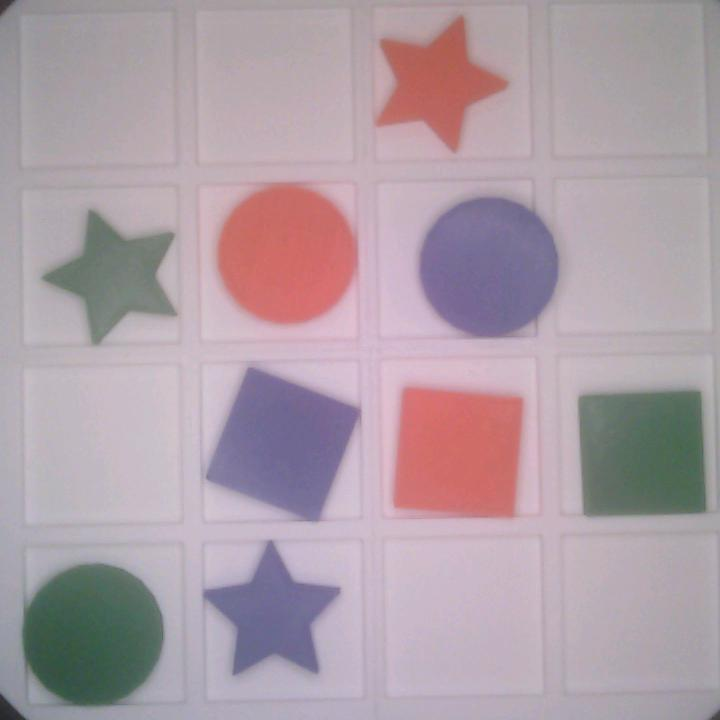Blue circle: (418, 199, 559, 341)
Blue square: (205, 365, 358, 520)
Blue star: (203, 539, 346, 678)
Green circle: (18, 563, 164, 705)
Green square: (574, 384, 710, 521)
Green star: (41, 206, 183, 342)
Orange circle: (218, 183, 354, 330)
Orange square: (392, 388, 527, 520)
Orange star: (376, 16, 508, 152)
